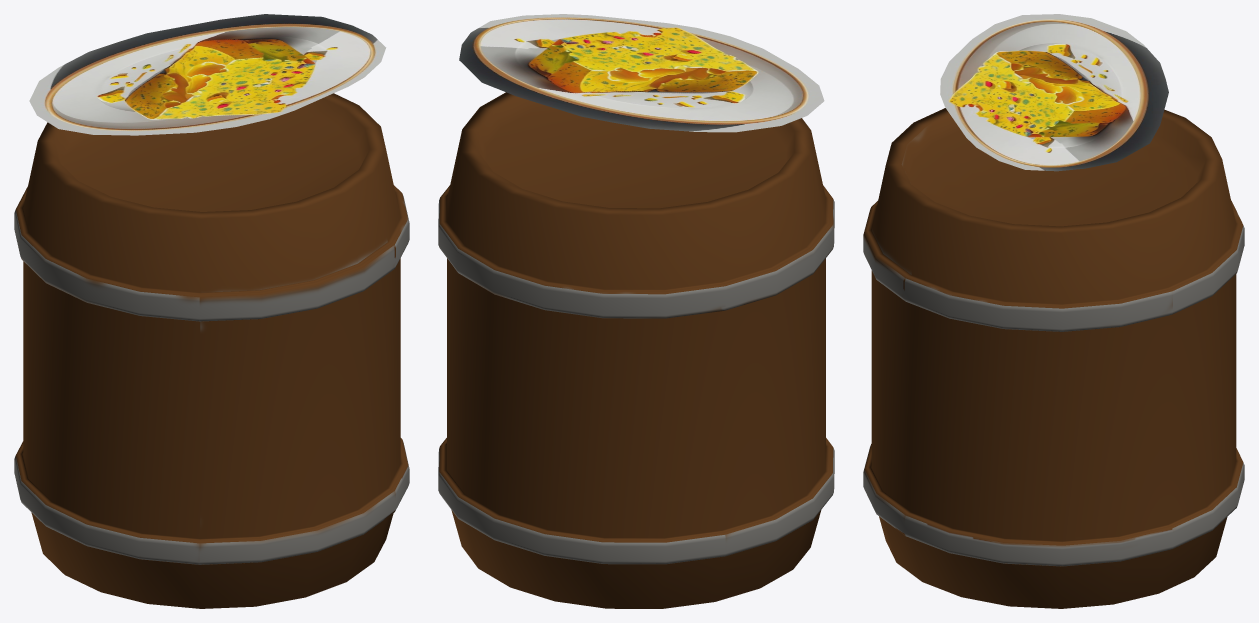
Rendered from Ingredientes_6_PieldeMuerto.fbx.
The picture shows the model from 3 angles, left to right: view 1: azimuth 30°, elevation 25°; view 2: azimuth 150°, elevation 25°; view 3: azimuth 270°, elevation 25°; orthographic projection. The views are drawn at different scales.
Visible parts, largest first — view 1: Barril_mesh, MK_Ingredientes_6_PieldeMuerto; view 2: Barril_mesh, MK_Ingredientes_6_PieldeMuerto; view 3: Barril_mesh, MK_Ingredientes_6_PieldeMuerto.
Boxes of the visible parts, x1,y1,x2,y2 form: Barril_mesh: (14,93,409,608); MK_Ingredientes_6_PieldeMuerto: (29,14,386,135); Barril_mesh: (438,92,834,608); MK_Ingredientes_6_PieldeMuerto: (459,14,824,132); Barril_mesh: (863,108,1244,608); MK_Ingredientes_6_PieldeMuerto: (940,14,1168,171).
Bounding box in the file's own units: 1.84 × 2.36 × 1.84.
2 materials, 2 textured.
